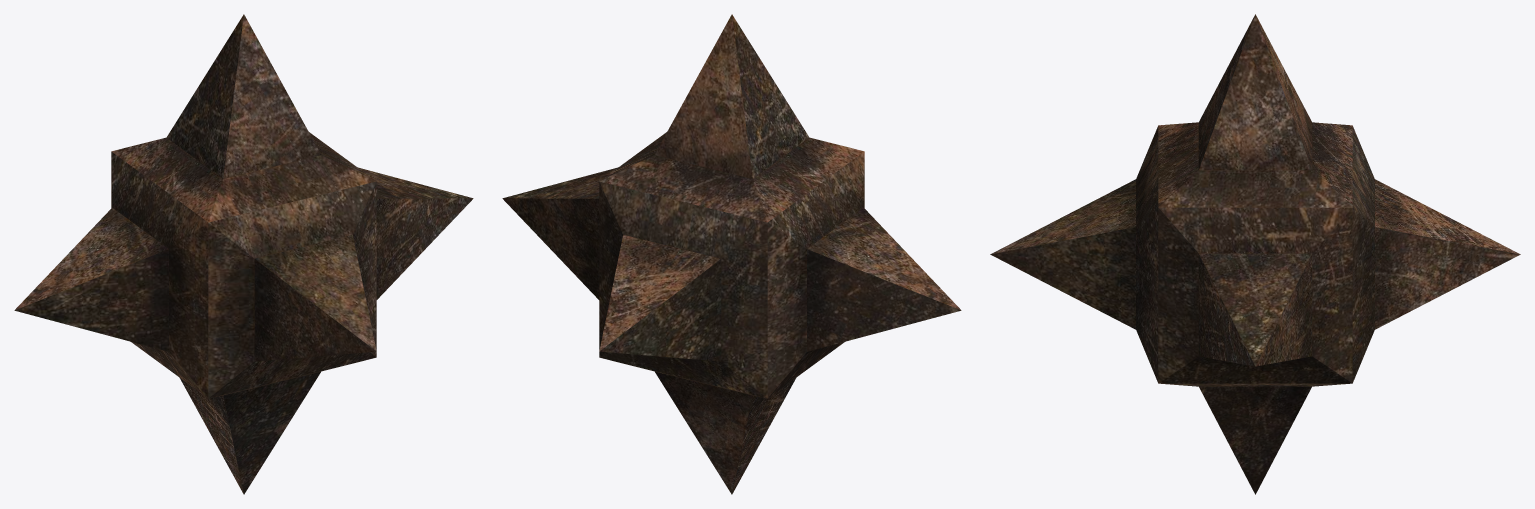
The model's file is pinche.fbx.
3 renders of one model, left to right at view 1: azimuth 30°, elevation 25°; view 2: azimuth 150°, elevation 25°; view 3: azimuth 270°, elevation 25°, orthographic.
Visible parts, largest first — view 1: Cube; view 2: Cube; view 3: Cube.
Boxes of the visible parts, box(x1,y1,x2,y2) form: Cube: box(14, 14, 473, 494); Cube: box(502, 14, 961, 494); Cube: box(990, 14, 1520, 494).
Size of the model in its own units: 546 by 546 by 546.
1 material, 1 textured.
